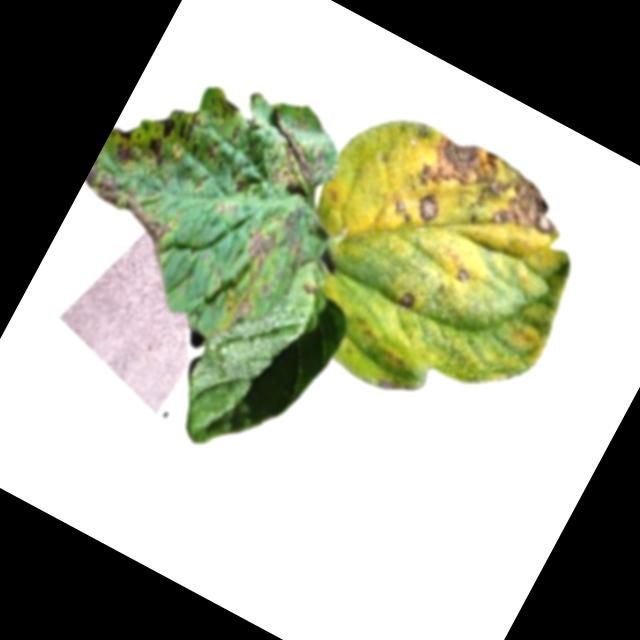Early_blight: (411, 124, 579, 255), (71, 162, 182, 254), (245, 108, 342, 204), (139, 97, 214, 179), (99, 121, 148, 172), (237, 223, 283, 271), (226, 290, 258, 330), (413, 190, 444, 223), (387, 196, 417, 224), (216, 94, 243, 122), (202, 136, 226, 163), (227, 171, 250, 195), (298, 273, 321, 297), (397, 287, 418, 310), (453, 265, 472, 284)
